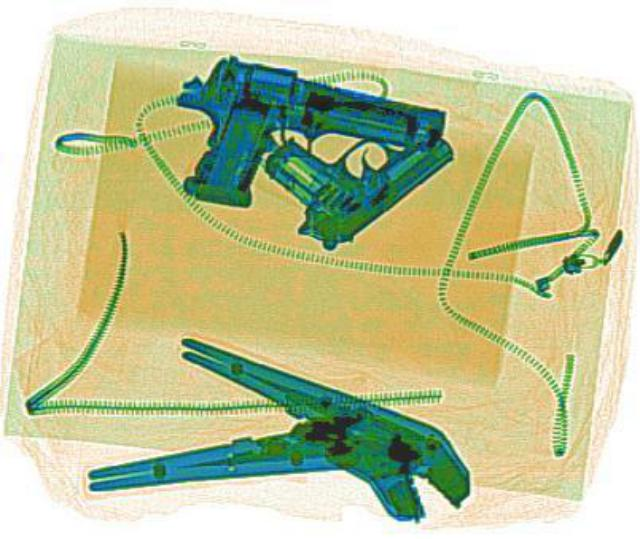Gun: (143, 48, 449, 241), (236, 77, 464, 248)
